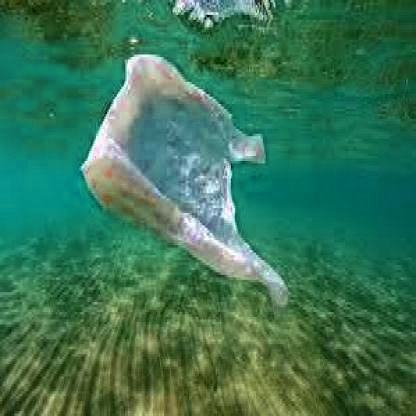pbag: (79, 52, 288, 312)
